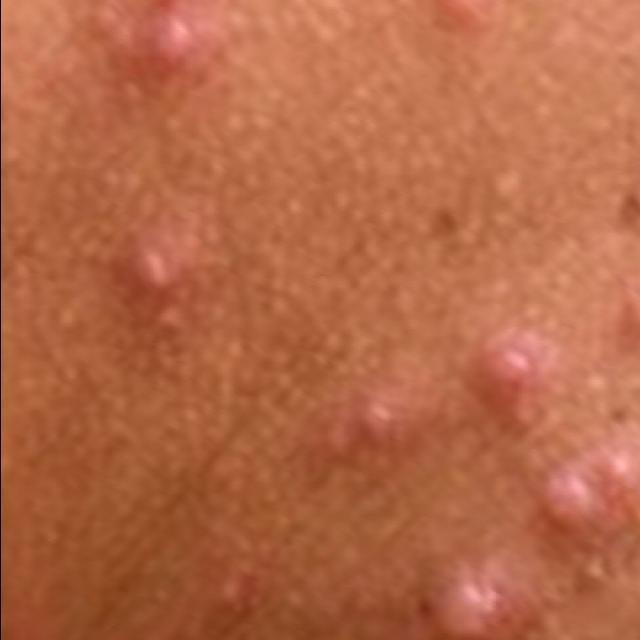acne: (376, 541, 520, 640), (126, 0, 248, 115), (316, 380, 446, 465), (104, 210, 195, 330), (534, 435, 640, 534), (462, 322, 562, 417), (608, 269, 640, 387), (414, 0, 508, 39)
